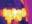Hotspot: (2, 8, 27, 23)
